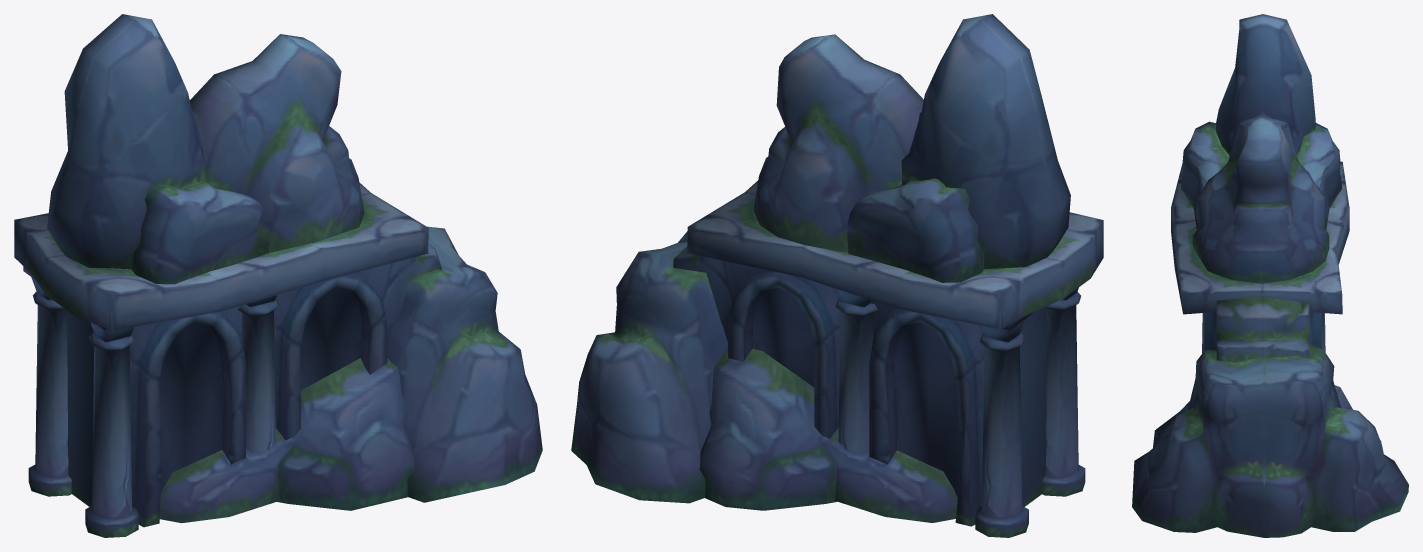
The model's file is mesh_Iz_dun_stone_09.FBX.
The picture shows the model from 3 angles, left to right: view 1: azimuth 30°, elevation 25°; view 2: azimuth 150°, elevation 25°; view 3: azimuth 270°, elevation 25°; orthographic projection. The views are drawn at different scales.
Visible parts, largest first — view 1: mesh_Iz_dun_stone_09; view 2: mesh_Iz_dun_stone_09; view 3: mesh_Iz_dun_stone_09.
Part boxes in pixels (x1,y1,x2,y2): mesh_Iz_dun_stone_09: [14, 14, 542, 537]; mesh_Iz_dun_stone_09: [571, 14, 1103, 537]; mesh_Iz_dun_stone_09: [1132, 14, 1408, 537].
Bounding box in the file's own units: 1722 × 1709 × 1128.
